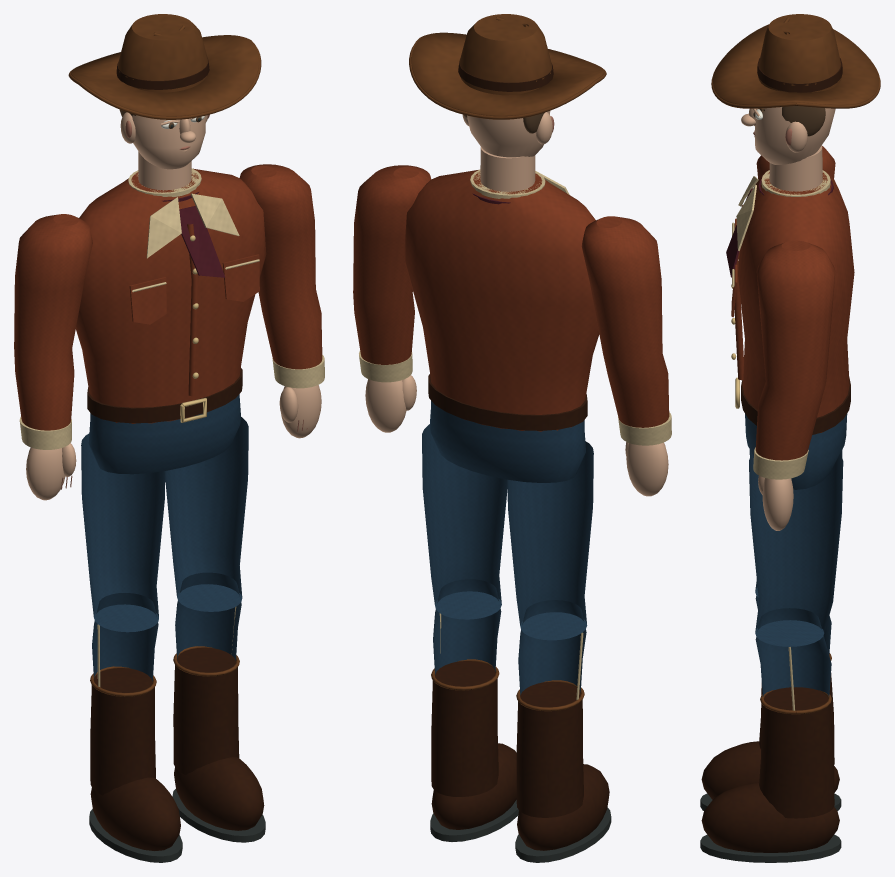
The model's file is RanchHand.fbx.
The picture shows the model from 3 angles, left to right: view 1: azimuth 30°, elevation 25°; view 2: azimuth 150°, elevation 25°; view 3: azimuth 270°, elevation 25°; orthographic projection. The views are drawn at different scales.
Parts seen in each view (by area): view 1: TorsoMesh, HeadMesh, KneeLMesh, KneeRMesh, ArmLMesh, ArmRMesh, LegLMesh, LegRMesh, HipsMesh; view 2: TorsoMesh, HeadMesh, KneeLMesh, KneeRMesh, ArmLMesh, ArmRMesh, LegLMesh, LegRMesh, HipsMesh; view 3: KneeRMesh, HeadMesh, ArmRMesh, TorsoMesh, LegRMesh, HipsMesh, KneeLMesh, ArmLMesh.
Boxes of the visible parts, bbox=[...] form: TorsoMesh: bbox=[76, 168, 266, 423]; HeadMesh: bbox=[68, 14, 261, 190]; KneeLMesh: bbox=[89, 593, 182, 862]; KneeRMesh: bbox=[172, 572, 265, 842]; ArmLMesh: bbox=[14, 214, 92, 500]; ArmRMesh: bbox=[239, 164, 324, 438]; LegLMesh: bbox=[81, 433, 165, 632]; LegRMesh: bbox=[165, 417, 248, 611]; HipsMesh: bbox=[87, 368, 242, 474]; TorsoMesh: bbox=[404, 169, 599, 431]; HeadMesh: bbox=[409, 14, 606, 191]; KneeLMesh: bbox=[515, 600, 611, 862]; KneeRMesh: bbox=[430, 579, 518, 841]; ArmLMesh: bbox=[581, 216, 671, 496]; ArmRMesh: bbox=[353, 165, 431, 432]; LegLMesh: bbox=[507, 441, 593, 640]; LegRMesh: bbox=[422, 424, 507, 619]; HipsMesh: bbox=[428, 374, 587, 482]; KneeRMesh: bbox=[700, 608, 841, 862]; HeadMesh: bbox=[711, 14, 880, 191]; ArmRMesh: bbox=[753, 240, 835, 530]; TorsoMesh: bbox=[726, 169, 854, 432]; LegRMesh: bbox=[749, 454, 843, 646]; HipsMesh: bbox=[735, 376, 850, 489]; KneeLMesh: bbox=[700, 590, 841, 810]; ArmLMesh: bbox=[756, 146, 835, 178].
Bounding box in the file's own units: 71.6 × 184 × 37.1.
Materials: 12 (6 with a texture image).
